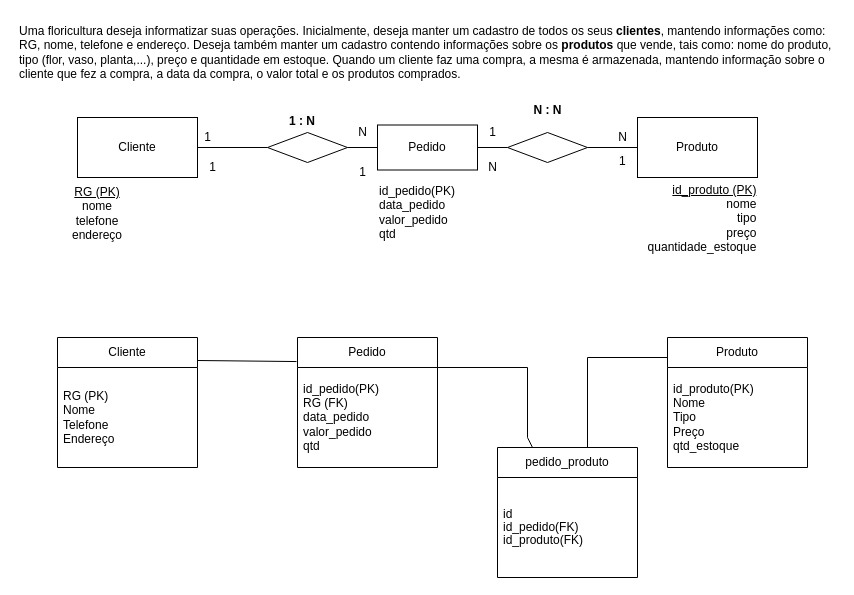
The diagram is 854 pixels wide and 595 high, and some of its shapes have lost their labels. Each missing label, with the centre of its shape:
"de" belongs at [547,147].
"realiza" belongs at [307,147].
